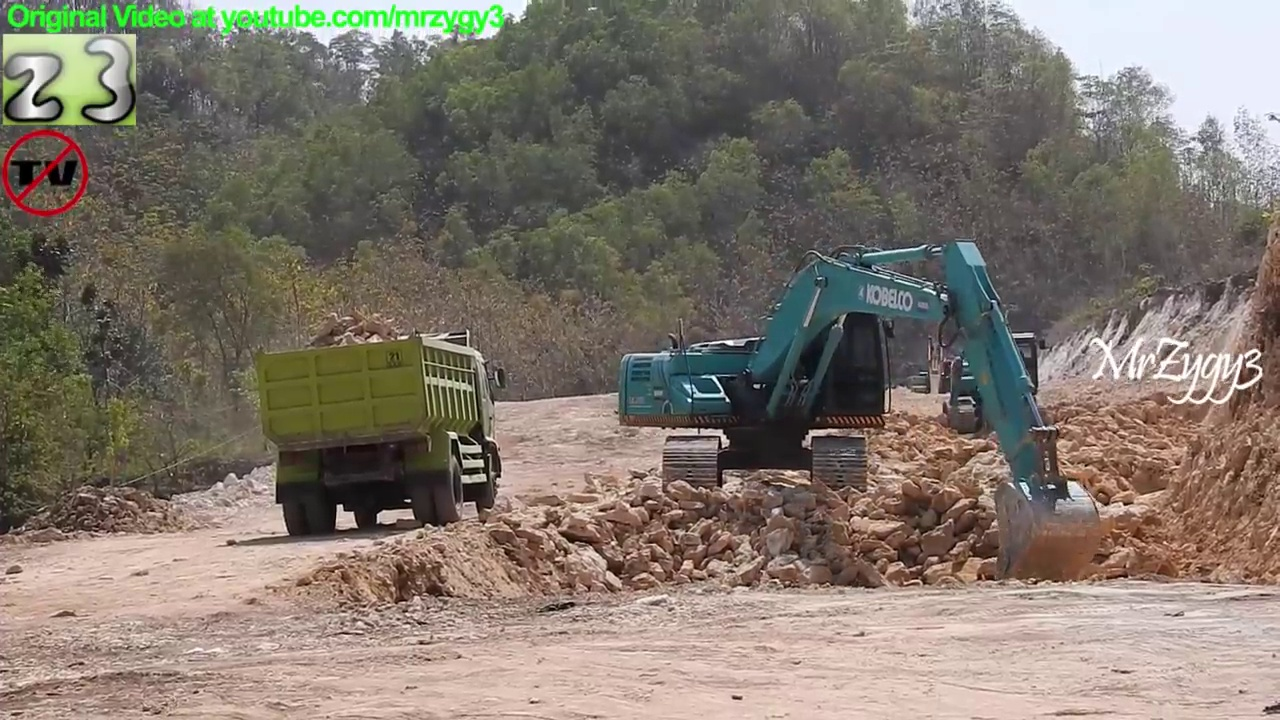excavator: (612, 230, 1107, 592), (941, 293, 1057, 441), (900, 281, 971, 407)
truck: (250, 324, 513, 543)
